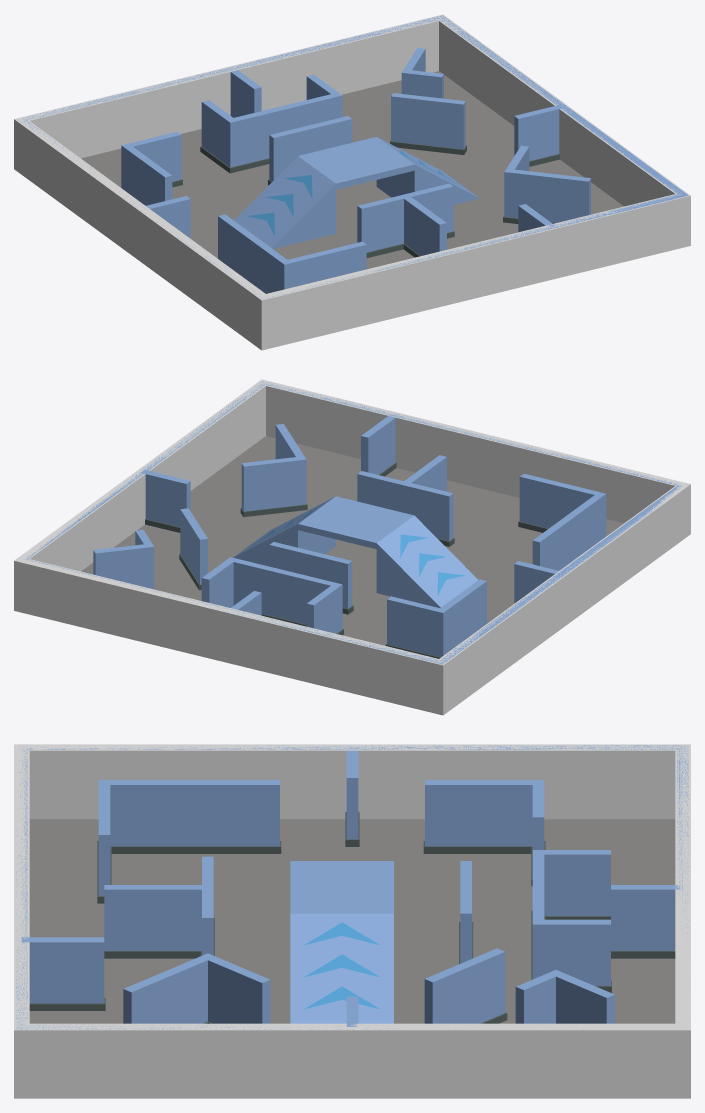
Rendered from Location6.fbx.
3 renders of one model, top to bottom at view 1: azimuth 30°, elevation 25°; view 2: azimuth 150°, elevation 25°; view 3: azimuth 270°, elevation 25°, orthographic. The views are drawn at different scales.
Parts seen in each view (by area): view 1: outer_wall.06, wall.06, floor.06, bridge.06; view 2: outer_wall.06, wall.06, floor.06, bridge.06; view 3: outer_wall.06, wall.06, floor.06, bridge.06.
Boxes of the visible parts, x1,y1,x2,y2 form: outer_wall.06: [14, 14, 690, 350]; wall.06: [16, 15, 688, 298]; floor.06: [81, 71, 623, 269]; bridge.06: [234, 137, 479, 248]; outer_wall.06: [14, 379, 690, 715]; wall.06: [26, 382, 682, 664]; floor.06: [81, 436, 623, 645]; bridge.06: [233, 496, 477, 607]; outer_wall.06: [14, 744, 690, 1098]; wall.06: [16, 745, 688, 1029]; floor.06: [29, 819, 675, 1023]; bridge.06: [290, 861, 393, 1023].
Size of the model in its own units: 1638 by 183 by 1638.
